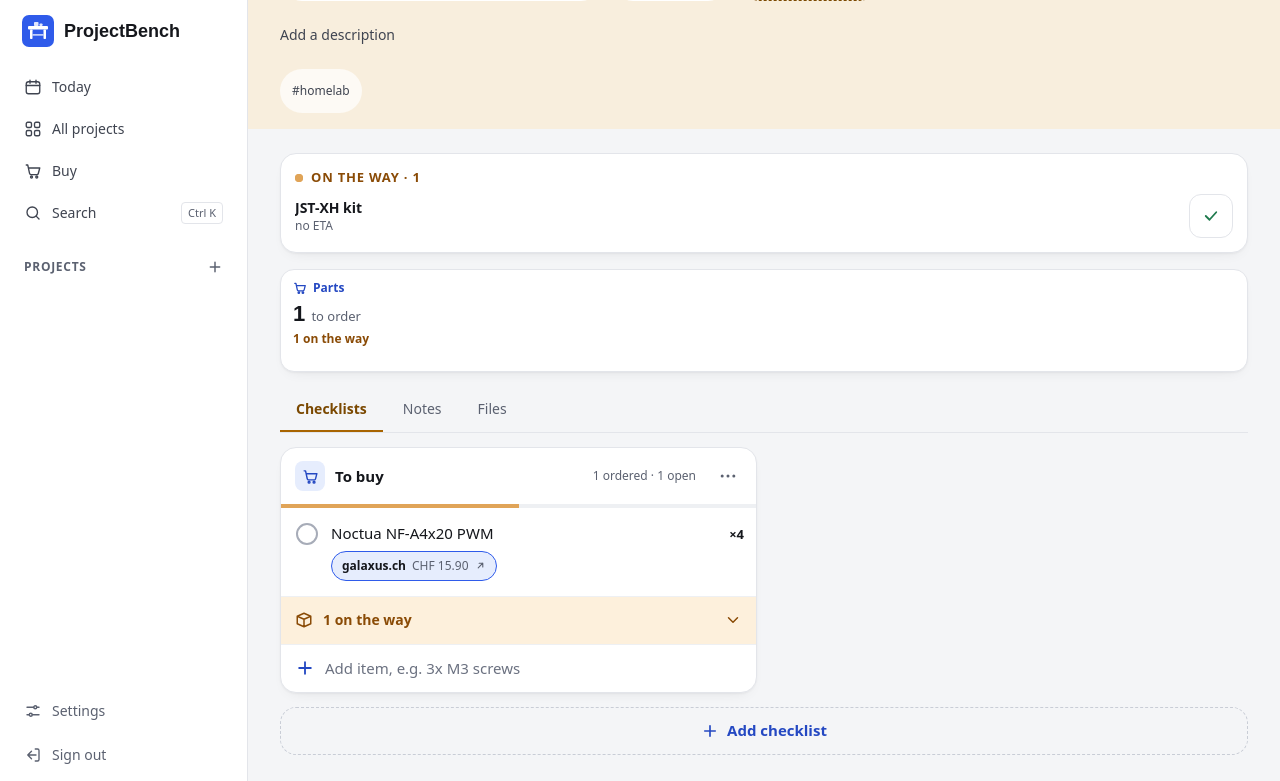
Test case: App › shows a project with its buy list, links and ordered items
(page scrolled)
expect the text "Noctua NF-A4x20 PWM" is shown: met, box x1=331 y1=523 x2=494 y2=543
expect the button named "Mark as ordered: Noctua NF-A4x20 PWM" is shown: met, box x1=285 y1=512 x2=329 y2=556
Step 1. Click the button "1 on the way" → click(371, 620), box x1=281 y1=596 x2=756 y2=644
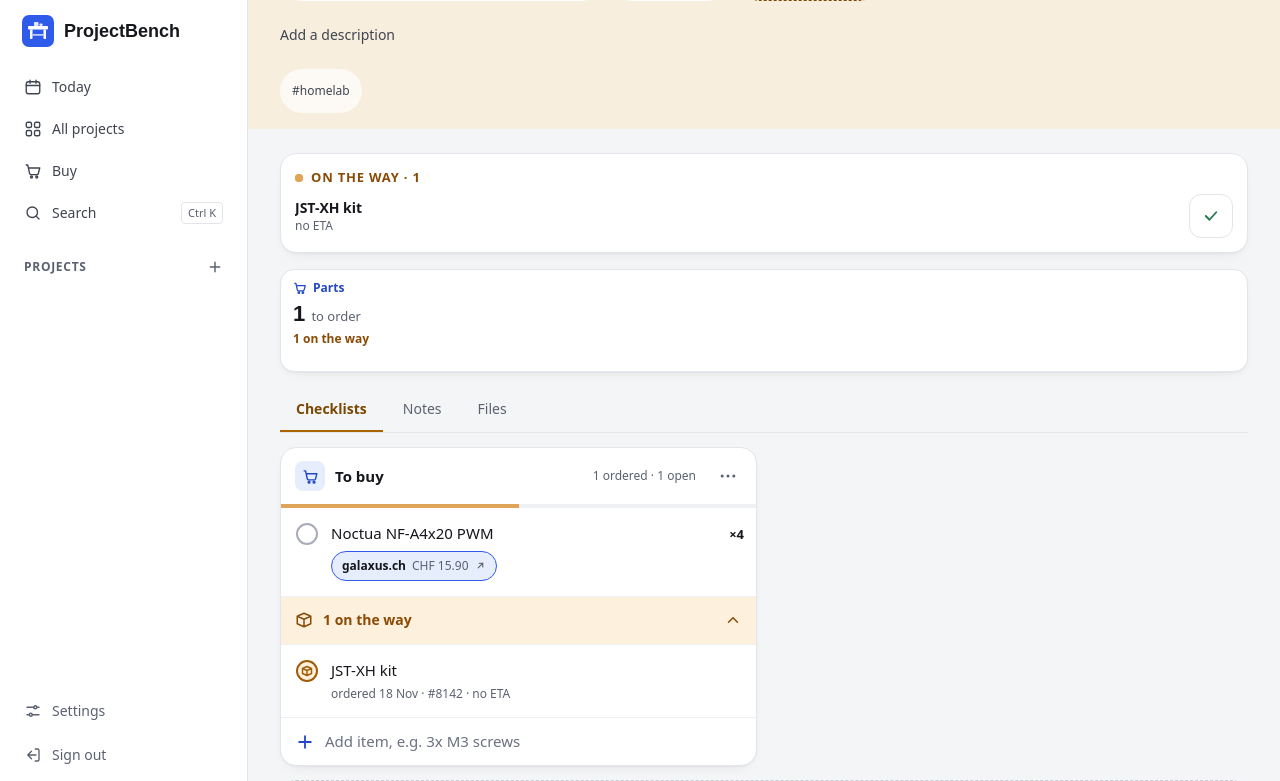
expect the text "ordered 18 Nov · #8142 · no ETA" is shown: met, box x1=331 y1=685 x2=510 y2=702
expect the button named "Mark as received: JST-XH kit" is shown: met, box x1=285 y1=648 x2=329 y2=692
